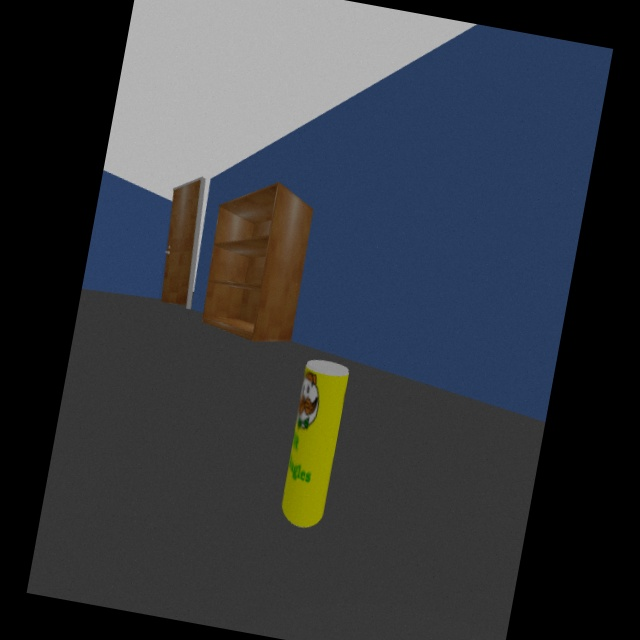chipsdose_gelb: (282, 359, 350, 529)
